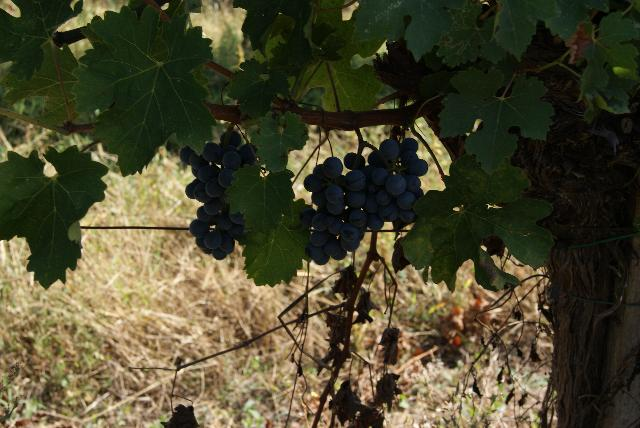grapes: (300, 138, 428, 265), (180, 142, 245, 259)
